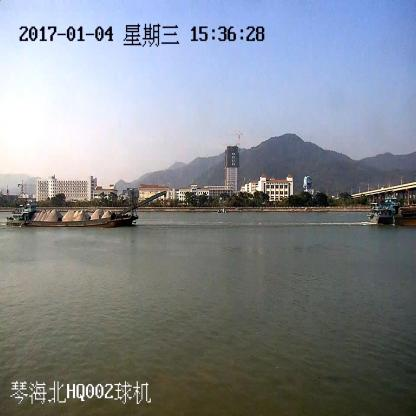Bulk Carrier: (370, 202, 416, 227)
